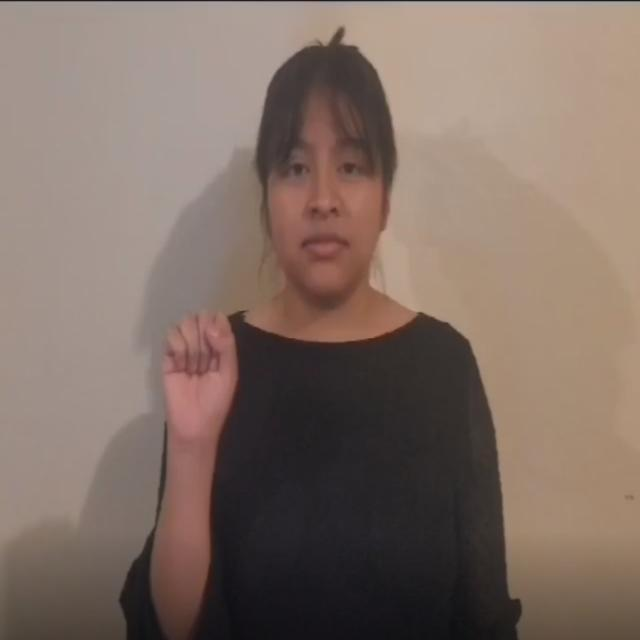S: (149, 301, 259, 432)
